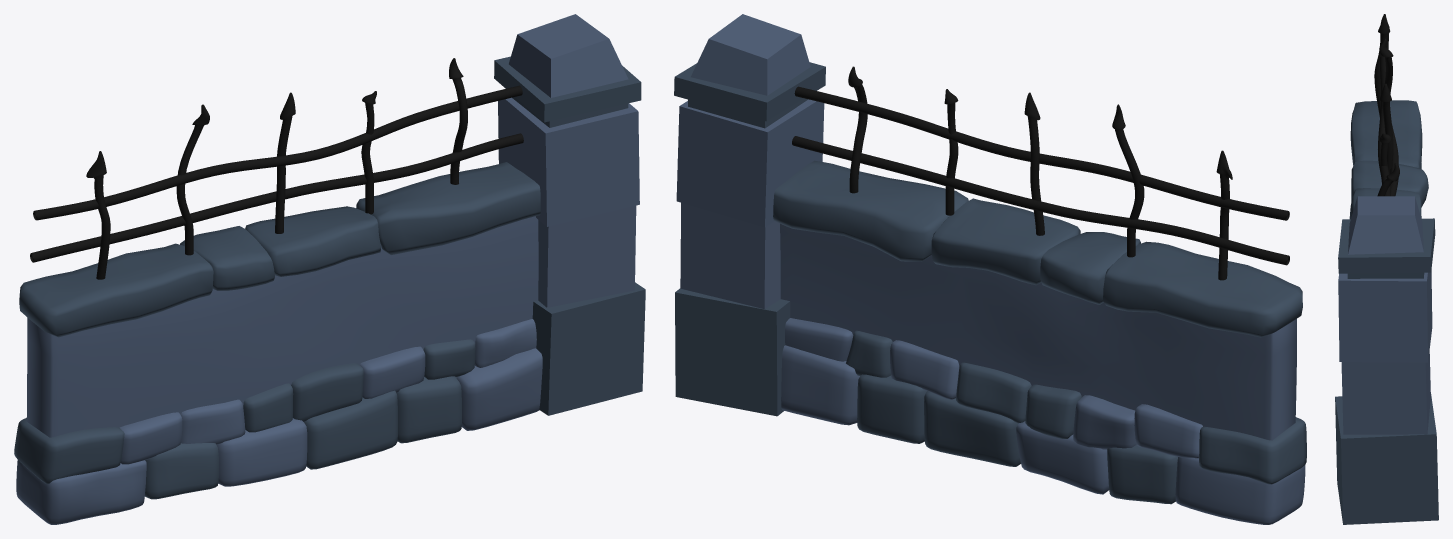
File: FenceWall.fbx
3 views of the same model, side by side, from view 1: azimuth 30°, elevation 25°; view 2: azimuth 150°, elevation 25°; view 3: azimuth 270°, elevation 25° (orthographic). The views are drawn at different scales.
Visible parts, largest first — view 1: Wall, Top Row, Bottom Row, Second Row, Column_C, Column_A, Column_B, Column_F, Bar_2, Bar_1, Column_E, Bar_A (+4 smaller); view 2: Wall, Top Row, Bottom Row, Second Row, Column_C, Column_A, Column_B, Column_F, Bar_1, Bar_2, Column_E, Bar_B (+5 smaller); view 3: Column_A, Column_C, Column_B, Top Row, Column_F, Column_E, Bar_2, Bar_C, Bar_A, Column_D, Bar_B, Bar_1 (+2 smaller).
Part boxes in pixels (x1,y1,x2,y2): Wall: (26, 216, 538, 437); Top Row: (19, 162, 540, 337); Bottom Row: (16, 348, 542, 524); Second Row: (14, 319, 536, 484); Column_C: (498, 97, 639, 226); Column_A: (532, 282, 645, 415); Column_B: (538, 205, 636, 307); Column_F: (509, 14, 628, 97); Bar_2: (33, 85, 522, 220); Bar_1: (30, 133, 523, 262); Column_E: (494, 56, 641, 122); Bar_A: (86, 151, 110, 279); Wall: (780, 223, 1296, 440); Top Row: (773, 160, 1302, 337); Bottom Row: (781, 345, 1305, 524); Second Row: (785, 318, 1306, 484); Column_C: (676, 99, 824, 227); Column_A: (675, 288, 790, 416); Column_B: (680, 202, 780, 308); Column_F: (691, 14, 810, 95); Bar_1: (792, 136, 1289, 265); Bar_2: (794, 86, 1289, 220); Column_E: (674, 62, 825, 121); Bar_B: (1112, 104, 1144, 257); Column_A: (1335, 392, 1438, 524); Column_C: (1338, 270, 1432, 362); Column_B: (1341, 351, 1430, 434); Top Row: (1349, 100, 1428, 219); Column_F: (1348, 196, 1423, 254); Column_E: (1338, 218, 1435, 273); Bar_2: (1378, 33, 1390, 196); Bar_C: (1379, 83, 1393, 174); Bar_A: (1374, 14, 1390, 116); Column_D: (1347, 272, 1424, 278); Bar_B: (1379, 38, 1393, 93); Bar_1: (1390, 125, 1398, 196).
Size of the model in its own units: 655 by 396 by 117.
